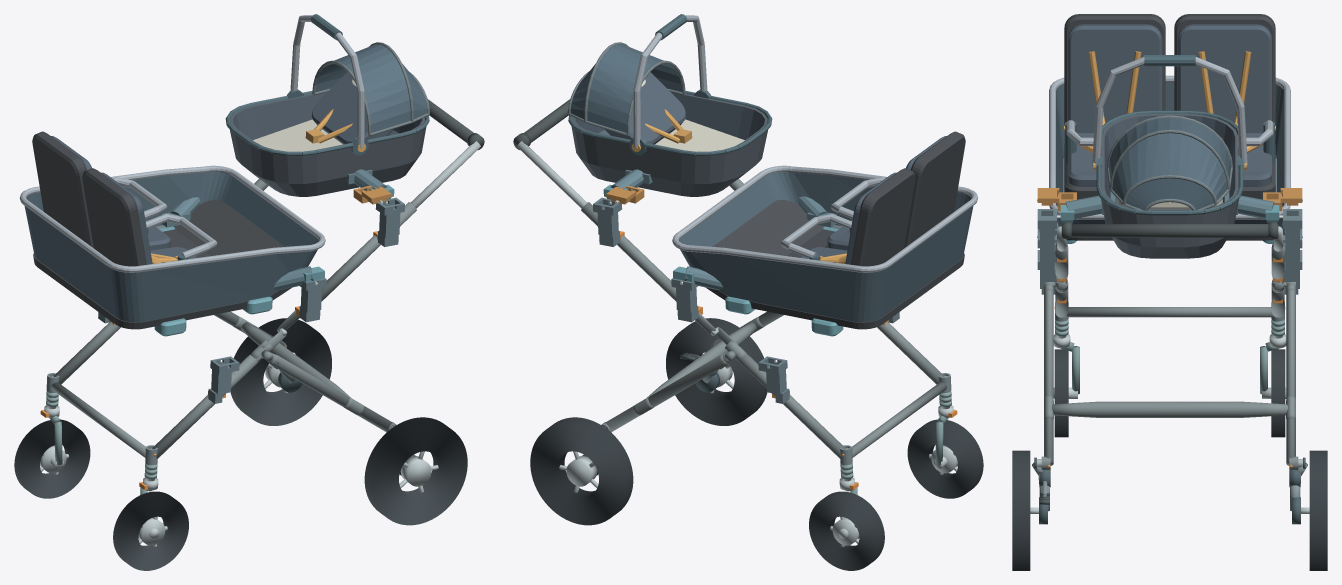
File: D32_w650_state1_wheel_M.glb
The picture shows the model from 3 angles, left to right: view 1: azimuth 30°, elevation 25°; view 2: azimuth 150°, elevation 25°; view 3: azimuth 270°, elevation 25°; orthographic projection. The views are drawn at different scales.
Visible parts, largest first — view 1: D32_Lower, D32_Upper, RL_tire.008, RR_tire.008, FL_tire.008, FR_tire.008, V46_rear_leg_-1.009, main_lower_-1.009, D32_Lower_Mount_M, front_fixed_round_tube.008, main_upper_-1.009, Universal_Cabin_Receiver_H_-1 (+8 smaller); view 2: D32_Lower, D32_Upper, RR_tire.008, RL_tire.008, FR_tire.008, FL_tire.008, V46_rear_leg_1.009, main_lower_1.009, D32_Lower_Mount_M, front_fixed_round_tube.008, main_upper_1.009, Universal_Cabin_Receiver_H_1 (+8 smaller); view 3: D32_Lower, D32_Upper, V46_rearbar.009, round_handle.008, RL_tire.008, RR_tire.008, front_fixed_round_tube.008, D32_Upper_Mount_H, V46_rear_leg_1.009, V46_rear_leg_-1.009, FL_tire.008, FR_tire.008 (+6 smaller).
Part boxes in pixels (x1,y1,x2,y2): D32_Lower: (20, 131, 325, 336); D32_Upper: (225, 14, 429, 196); RL_tire.008: (364, 417, 467, 525); RR_tire.008: (230, 318, 331, 425); FL_tire.008: (113, 491, 188, 570); FR_tire.008: (14, 419, 90, 498); V46_rear_leg_-1.009: (269, 354, 392, 432); main_lower_-1.009: (152, 355, 261, 458); D32_Lower_Mount_M: (161, 197, 324, 290); front_fixed_round_tube.008: (51, 382, 145, 457); main_upper_-1.009: (321, 202, 416, 301); Universal_Cabin_Receiver_H_-1: (375, 197, 404, 246); D32_Lower: (672, 131, 977, 336); D32_Upper: (568, 14, 772, 196); RR_tire.008: (530, 417, 633, 525); RL_tire.008: (666, 318, 767, 425); FR_tire.008: (809, 491, 884, 570); FL_tire.008: (907, 419, 983, 498); V46_rear_leg_1.009: (605, 354, 728, 432); main_lower_1.009: (736, 355, 845, 458); D32_Lower_Mount_M: (673, 196, 836, 289); front_fixed_round_tube.008: (852, 382, 946, 457); main_upper_1.009: (581, 202, 676, 301); Universal_Cabin_Receiver_H_1: (593, 197, 622, 246); D32_Lower: (1049, 14, 1290, 243); D32_Upper: (1092, 55, 1247, 258); V46_rearbar.009: (1051, 401, 1288, 417); round_handle.008: (1061, 224, 1278, 237); RL_tire.008: (1012, 450, 1030, 570); RR_tire.008: (1309, 450, 1327, 570); front_fixed_round_tube.008: (1066, 307, 1273, 317); D32_Upper_Mount_H: (1057, 192, 1282, 222); V46_rear_leg_1.009: (1286, 288, 1295, 465); V46_rear_leg_-1.009: (1044, 288, 1053, 465); FL_tire.008: (1054, 349, 1068, 437); FR_tire.008: (1271, 349, 1285, 437).
Size of the model in its own units: 1.17 by 1.37 by 0.7871.
